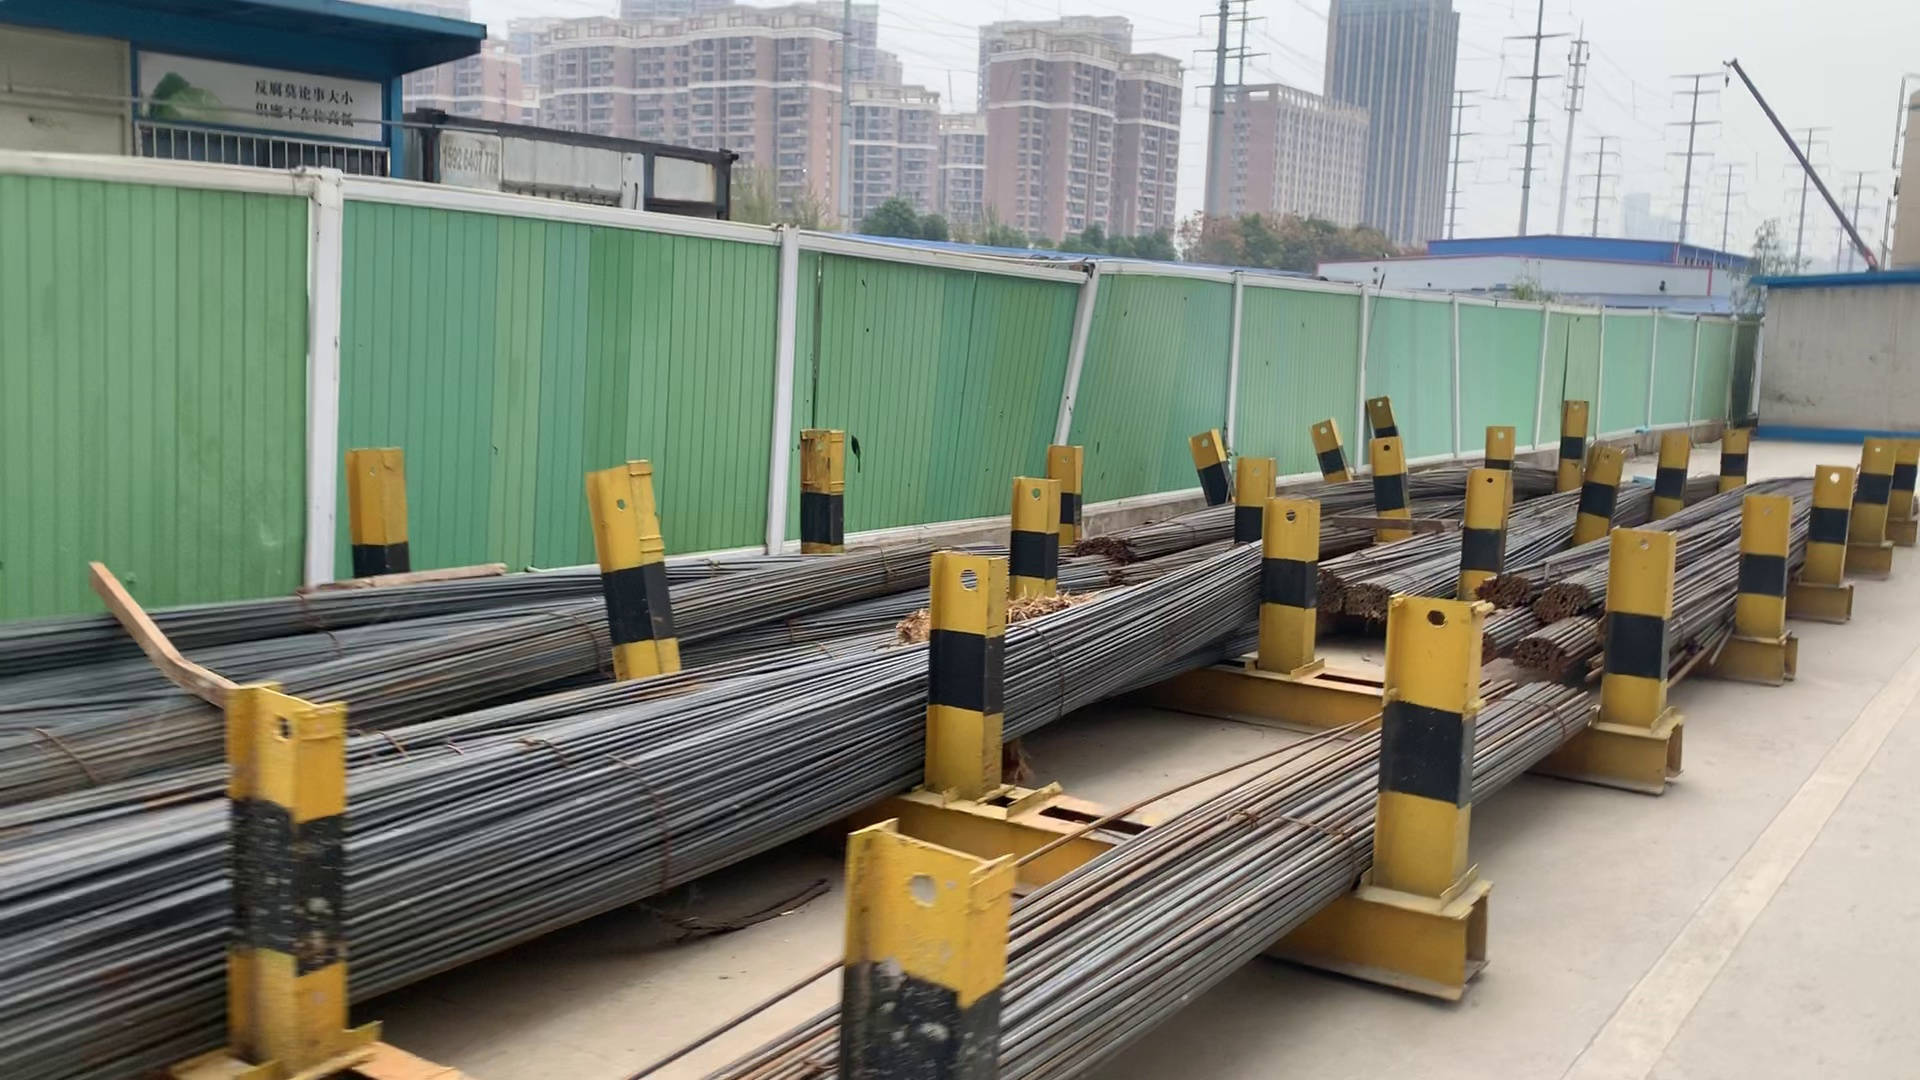rebar: (1515, 636, 1575, 670), (1470, 578, 1538, 607), (1542, 582, 1592, 618), (1349, 584, 1399, 616), (1317, 564, 1346, 618), (1480, 626, 1502, 665)
